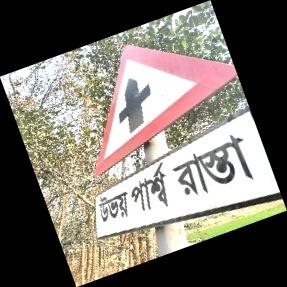Crossroad: (93, 45, 280, 241)
